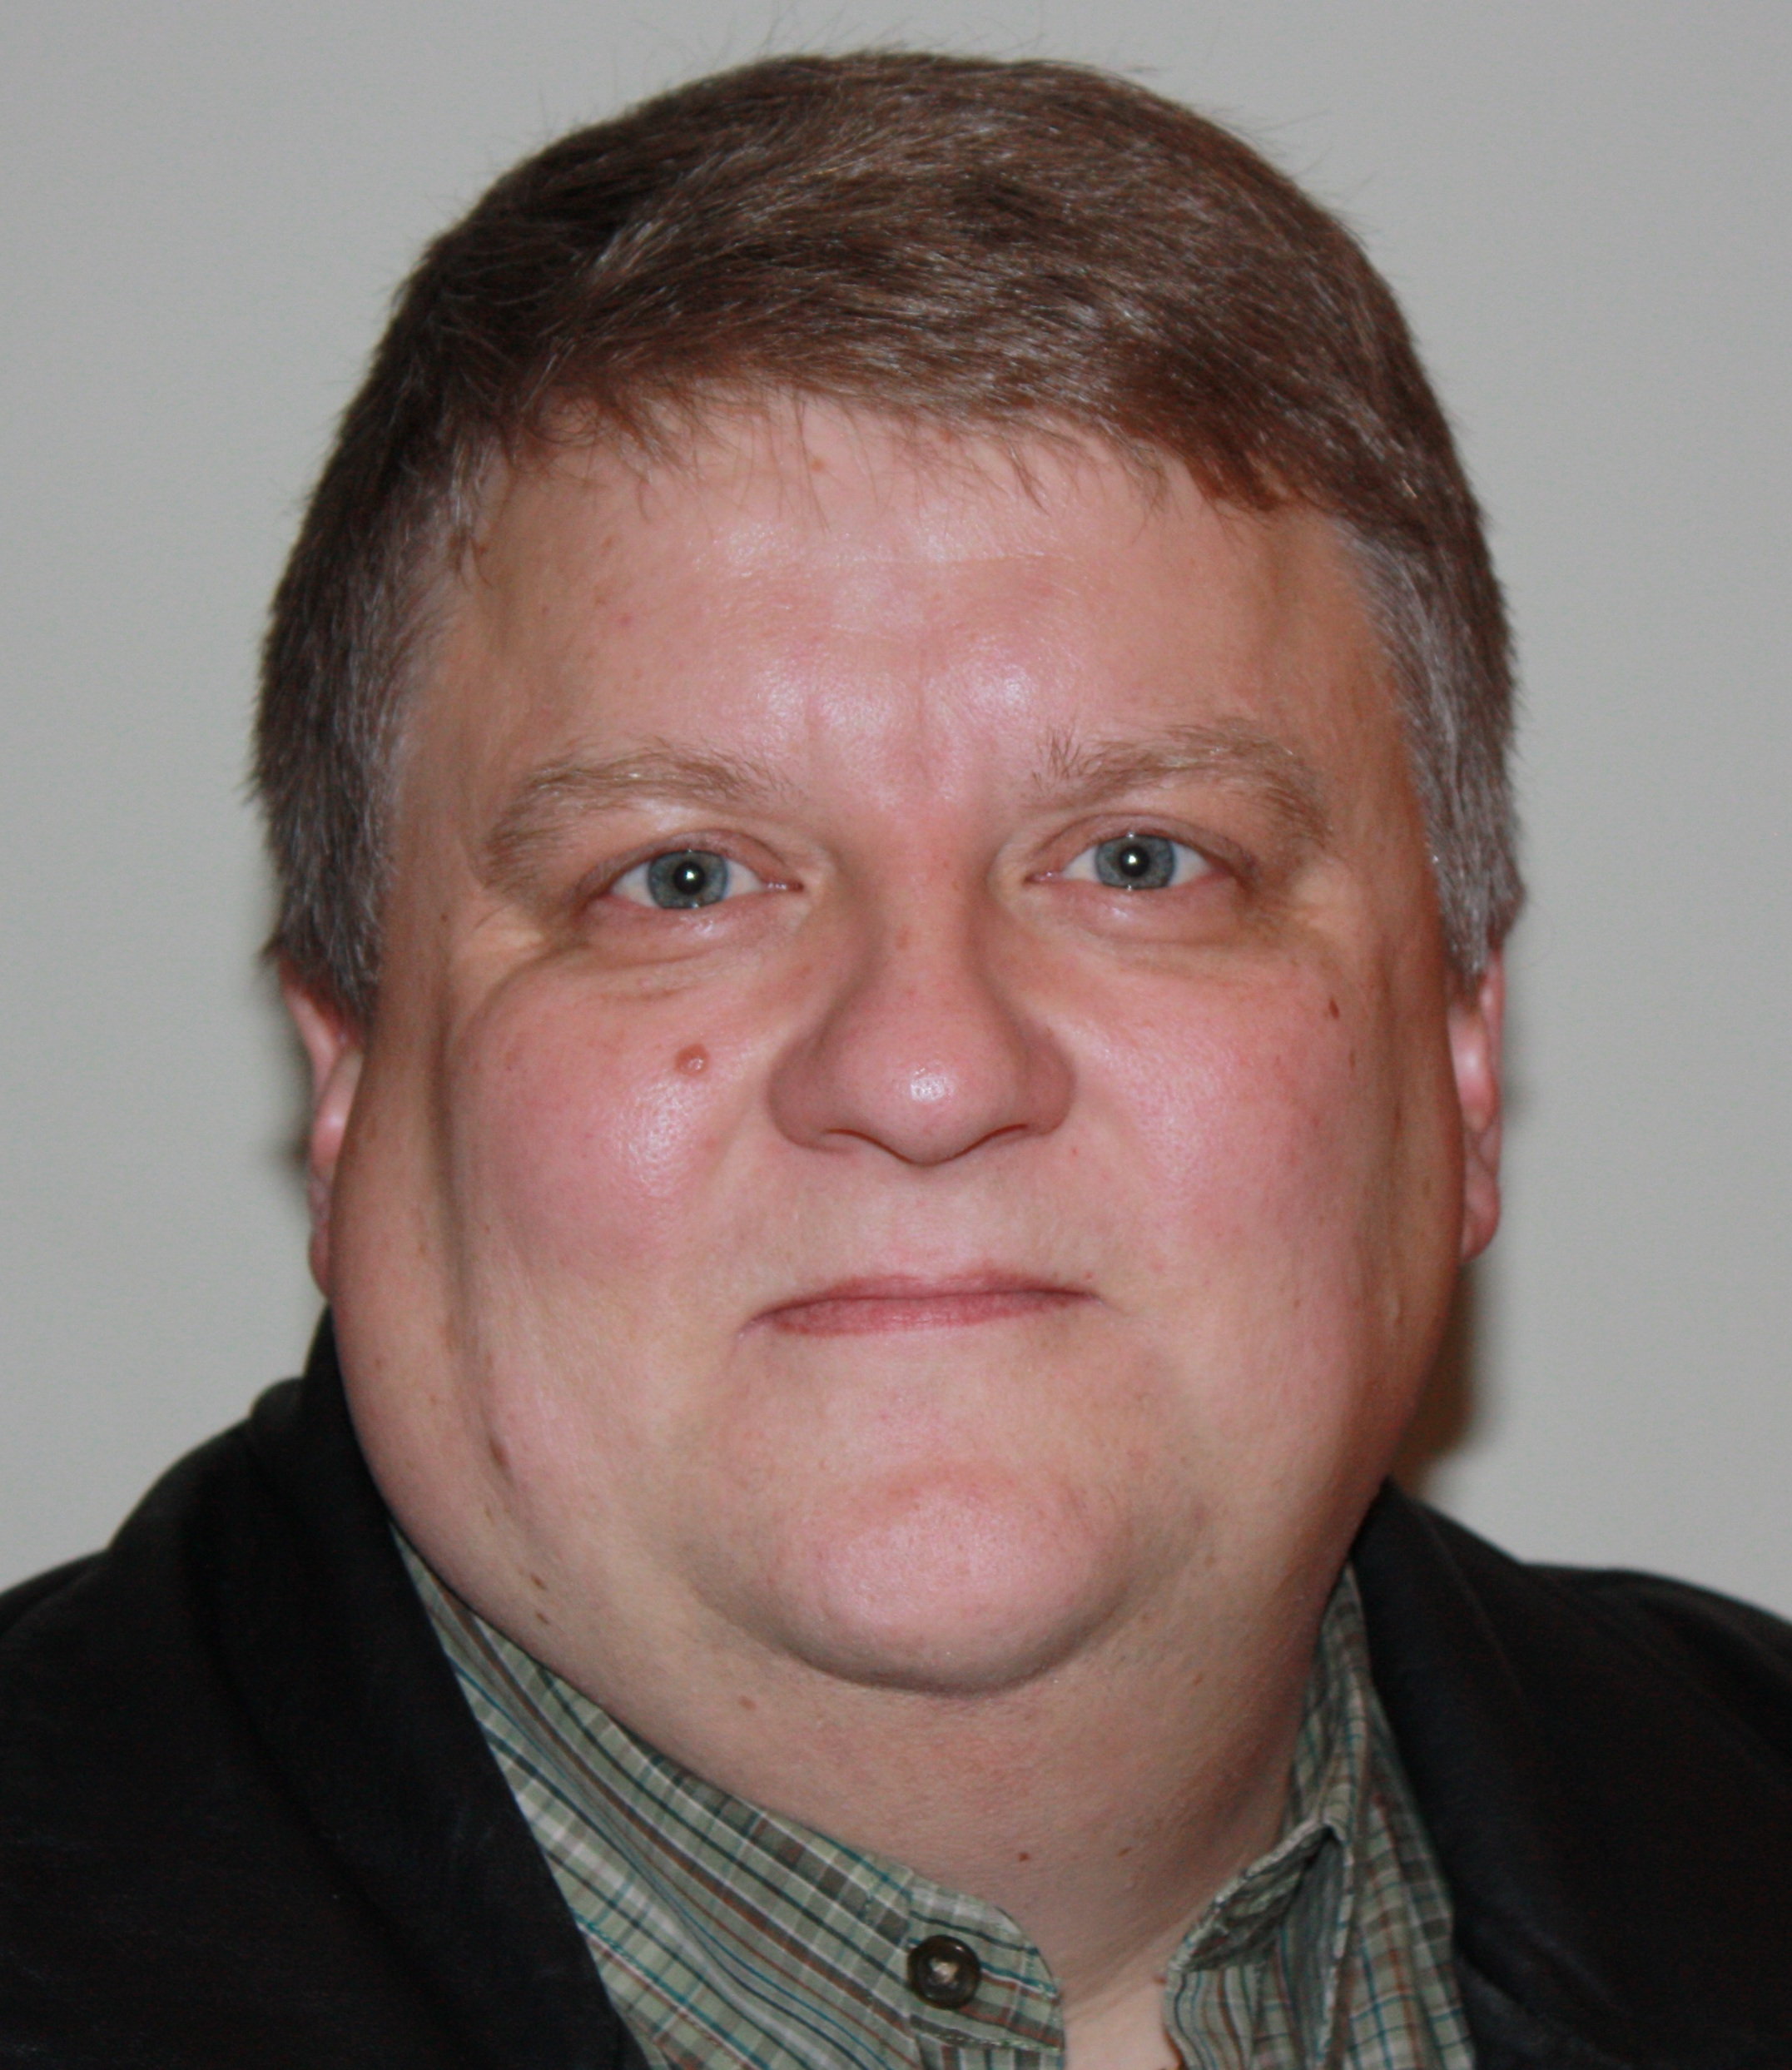human: (10, 61, 1792, 2070)
